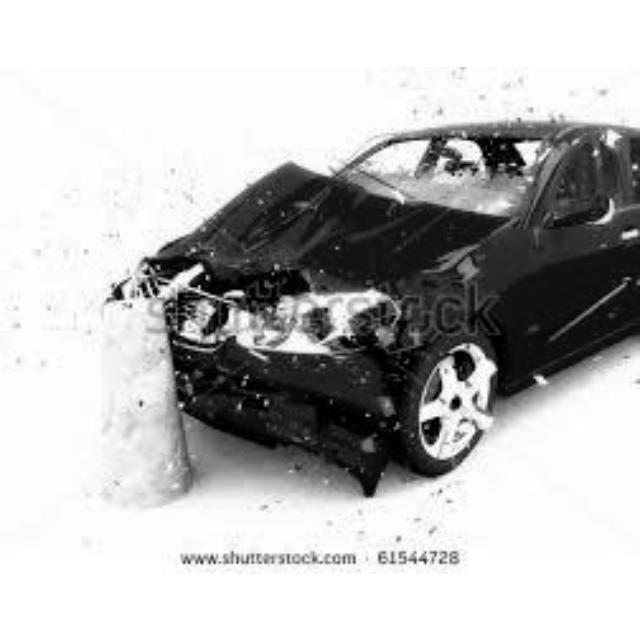bonnet-dent: (191, 173, 465, 292)
front-bumper-dent: (168, 326, 368, 452)
